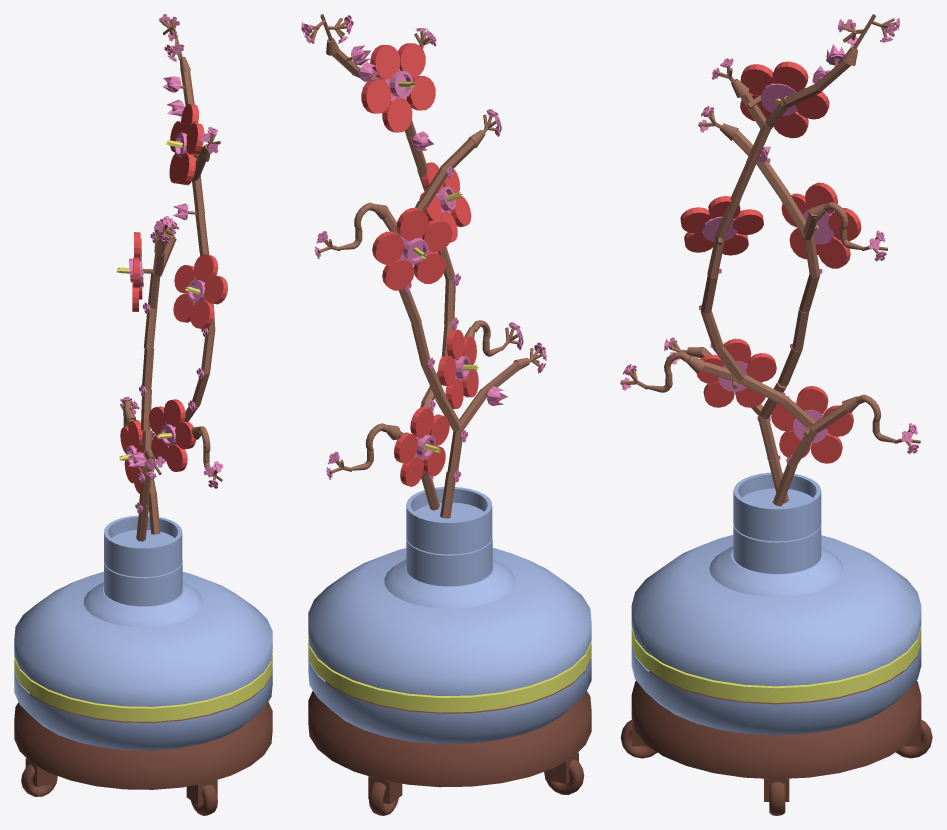
File: flower.glb
3 renders of one model, left to right at view 1: azimuth 30°, elevation 25°; view 2: azimuth 150°, elevation 25°; view 3: azimuth 270°, elevation 25°, orthographic. The views are drawn at different scales.
Visible parts, largest first — view 1: Cylinder, Cylinder.006, Cylinder.001, Cylinder.002, Cylinder.005, Cylinder.003, Cylinder.004, Cylinder.125, Cylinder.124, Torus.003, Cylinder.123, Torus.002 (+4 smaller); view 2: Cylinder, Cylinder.006, Cylinder.001, Cylinder.002, Cylinder.005, Cylinder.003, Cylinder.004, Cylinder.136, Cylinder.063, Cylinder.059, Cylinder.132, Cylinder.135 (+11 smaller); view 3: Cylinder, Cylinder.006, Cylinder.001, Cylinder.002, Cylinder.005, Cylinder.003, Cylinder.004, Cylinder.132, Cylinder.133, Cylinder.062, Cylinder.087, Cylinder.099 (+10 smaller).
Part boxes in pixels (x1=…): Cylinder: x1=14, y1=571, x2=272, y2=706; Cylinder.006: x1=14, y1=693, x2=272, y2=789; Cylinder.001: x1=14, y1=665, x2=272, y2=750; Cylinder.002: x1=14, y1=650, x2=272, y2=721; Cylinder.005: x1=104, y1=515, x2=182, y2=576; Cylinder.003: x1=83, y1=582, x2=203, y2=627; Cylinder.004: x1=104, y1=560, x2=182, y2=606; Cylinder.125: x1=190, y1=300, x2=214, y2=329; Cylinder.124: x1=204, y1=275, x2=227, y2=304; Torus.003: x1=21, y1=764, x2=57, y2=796; Cylinder.123: x1=193, y1=254, x2=218, y2=282; Torus.002: x1=191, y1=784, x2=217, y2=815; Cylinder: x1=308, y1=548, x2=591, y2=695; Cylinder.006: x1=308, y1=681, x2=591, y2=787; Cylinder.001: x1=308, y1=651, x2=591, y2=744; Cylinder.002: x1=308, y1=634, x2=591, y2=712; Cylinder.005: x1=406, y1=487, x2=492, y2=554; Cylinder.003: x1=384, y1=559, x2=515, y2=608; Cylinder.004: x1=406, y1=537, x2=492, y2=586; Cylinder.136: x1=361, y1=79, x2=391, y2=113; Cylinder.063: x1=372, y1=231, x2=404, y2=264; Cylinder.059: x1=396, y1=207, x2=428, y2=240; Cylinder.132: x1=370, y1=45, x2=400, y2=79; Cylinder.135: x1=382, y1=98, x2=412, y2=132; Cylinder: x1=631, y1=535, x2=921, y2=686; Cylinder.006: x1=631, y1=671, x2=921, y2=779; Cylinder.001: x1=631, y1=643, x2=921, y2=735; Cylinder.002: x1=631, y1=626, x2=921, y2=702; Cylinder.005: x1=733, y1=472, x2=821, y2=541; Cylinder.003: x1=709, y1=546, x2=843, y2=596; Cylinder.004: x1=733, y1=523, x2=821, y2=573; Cylinder.132: x1=772, y1=61, x2=808, y2=92; Cylinder.133: x1=740, y1=64, x2=773, y2=95; Cylinder.062: x1=817, y1=236, x2=850, y2=268; Cylinder.087: x1=810, y1=433, x2=842, y2=463; Cylinder.099: x1=746, y1=353, x2=776, y2=382.
Bounding box in the file's own units: 1.9 × 5.27 × 1.91.
